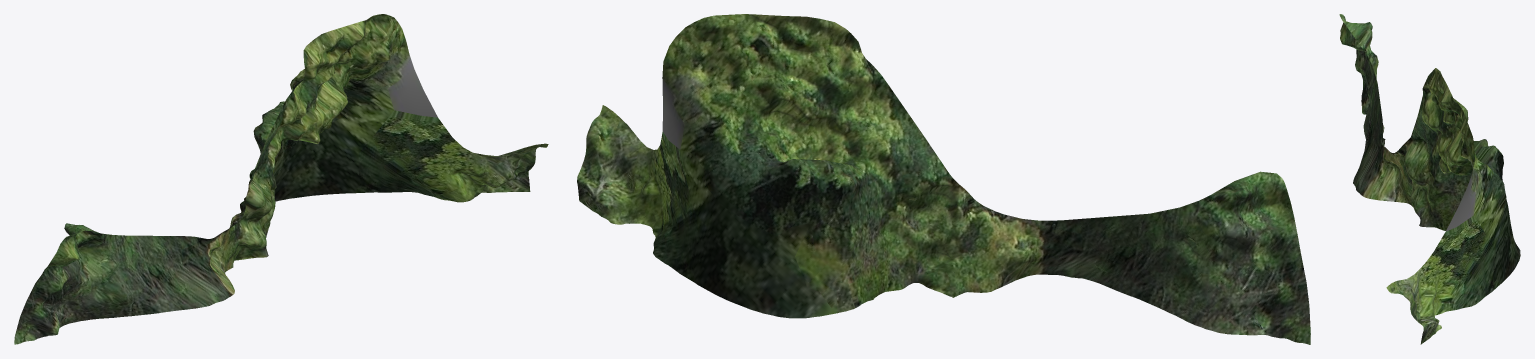
File: Tile_+007_+031.fbx
The picture shows the model from 3 angles, left to right: view 1: azimuth 30°, elevation 25°; view 2: azimuth 150°, elevation 25°; view 3: azimuth 270°, elevation 25°; orthographic projection. The views are drawn at different scales.
Parts seen in each view (by area): view 1: DefaultName; view 2: DefaultName; view 3: DefaultName.
Part boxes in pixels (x1,y1,x2,y2): DefaultName: (14,14,548,344); DefaultName: (577,14,1310,344); DefaultName: (1339,14,1520,344).
Size of the model in its own units: 18.17 by 6.34 by 5.66.
